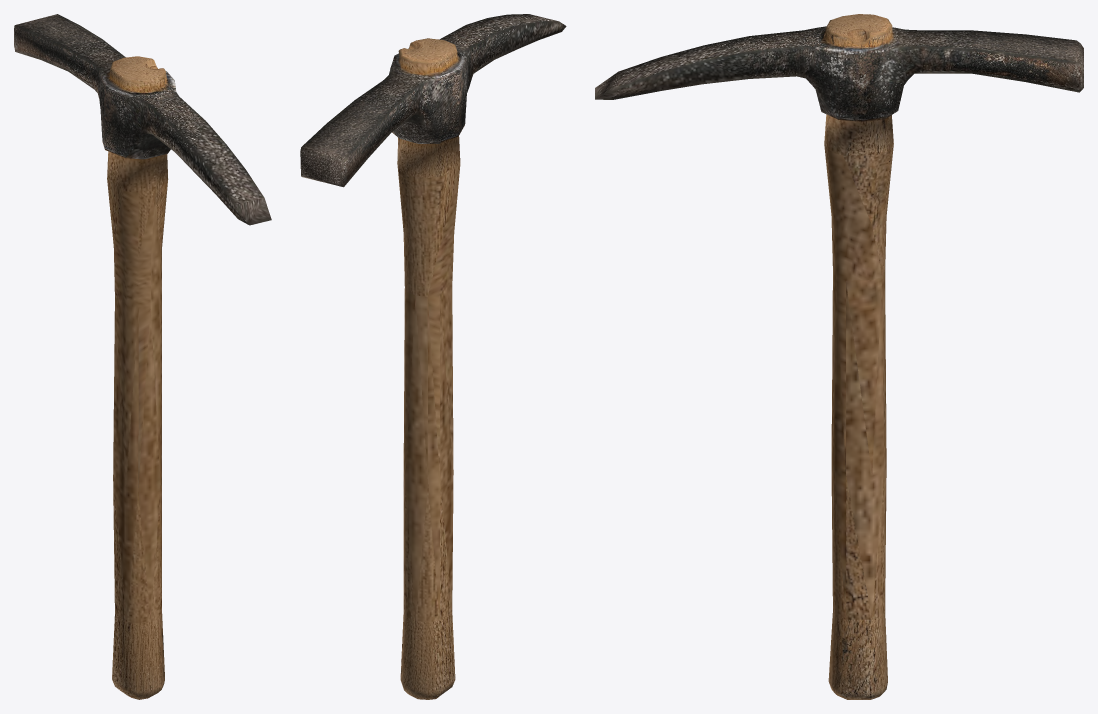
The model's file is pickaxe.glb.
The picture shows the model from 3 angles, left to right: view 1: azimuth 30°, elevation 25°; view 2: azimuth 150°, elevation 25°; view 3: azimuth 270°, elevation 25°; orthographic projection. The views are drawn at different scales.
Visible parts, largest first — view 1: tripo_node_1001d938-85d0-4225-a7ba-cc1f3d7ed38d; view 2: tripo_node_1001d938-85d0-4225-a7ba-cc1f3d7ed38d; view 3: tripo_node_1001d938-85d0-4225-a7ba-cc1f3d7ed38d.
Boxes of the visible parts, left/top/right/bottom form: tripo_node_1001d938-85d0-4225-a7ba-cc1f3d7ed38d: left=14, top=14, right=271, bottom=699; tripo_node_1001d938-85d0-4225-a7ba-cc1f3d7ed38d: left=300, top=14, right=566, bottom=699; tripo_node_1001d938-85d0-4225-a7ba-cc1f3d7ed38d: left=595, top=14, right=1083, bottom=699.
Size of the model in its own units: 0.1035 by 0.998 by 0.6582.
Materials: 1 (1 with a texture image).
